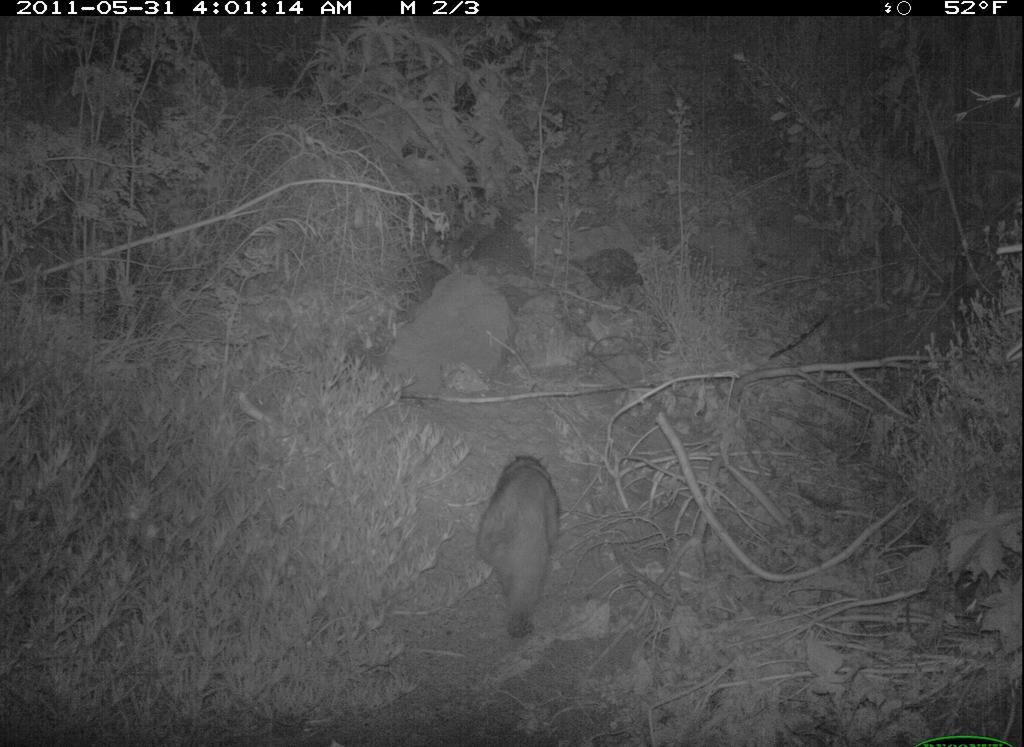raccoon: (472, 449, 574, 649)
